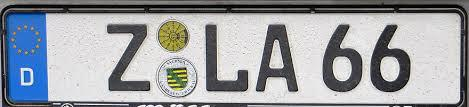6: (321, 23, 363, 93), (370, 24, 411, 93)
A: (256, 24, 298, 93)
L: (203, 22, 249, 93)
Z: (105, 22, 152, 92)
